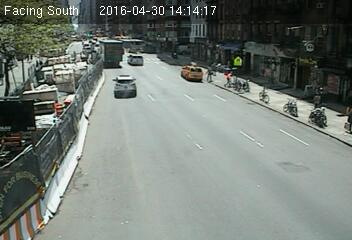neg: (1, 154, 38, 203), (124, 51, 140, 73), (284, 95, 300, 117), (77, 46, 91, 66), (95, 5, 109, 24), (42, 127, 55, 145), (53, 100, 66, 117), (10, 1, 23, 18), (263, 64, 274, 80), (168, 46, 179, 61)
pos: (311, 92, 326, 112), (223, 68, 237, 87), (204, 64, 218, 82)
